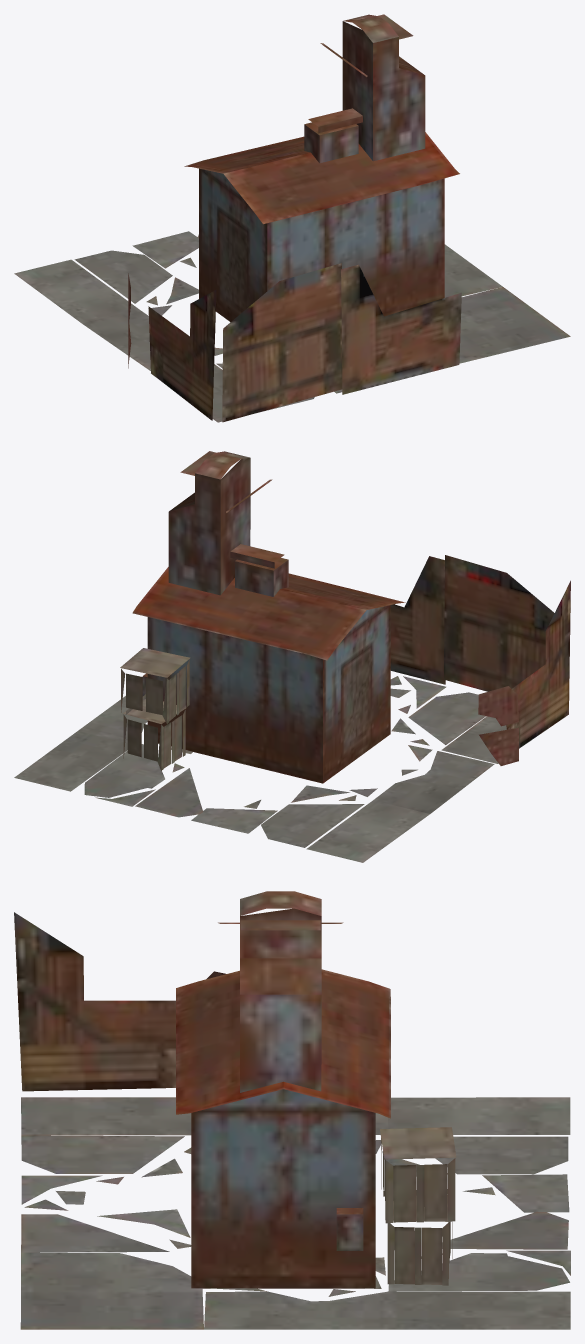
File: power_sub_small_1.glb
3 renders of one model, top to bottom at view 1: azimuth 30°, elevation 25°; view 2: azimuth 150°, elevation 25°; view 3: azimuth 270°, elevation 25°, orthographic. The views are drawn at different scales.
Parts seen in each view (by area): view 1: power_sub_small_1_hlod; view 2: power_sub_small_1_hlod; view 3: power_sub_small_1_hlod.
Part boxes in pixels (<box>): power_sub_small_1_hlod: <box>14,14,570,422</box>; power_sub_small_1_hlod: <box>14,451,570,862</box>; power_sub_small_1_hlod: <box>14,891,570,1329</box>.
Size of the model in its own units: 9.51 by 6.51 by 9.08.
1 material, 1 textured.
